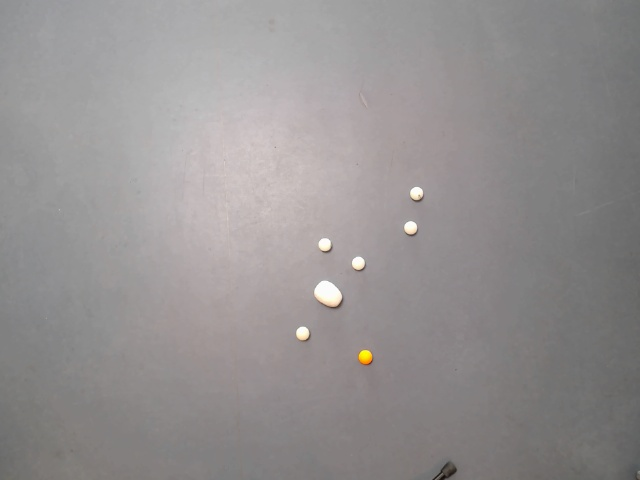egg: (314, 279, 341, 309)
orange: (356, 348, 373, 365)
white: (295, 325, 309, 341), (351, 255, 365, 270), (403, 220, 417, 234), (318, 237, 333, 250), (410, 187, 424, 200)
